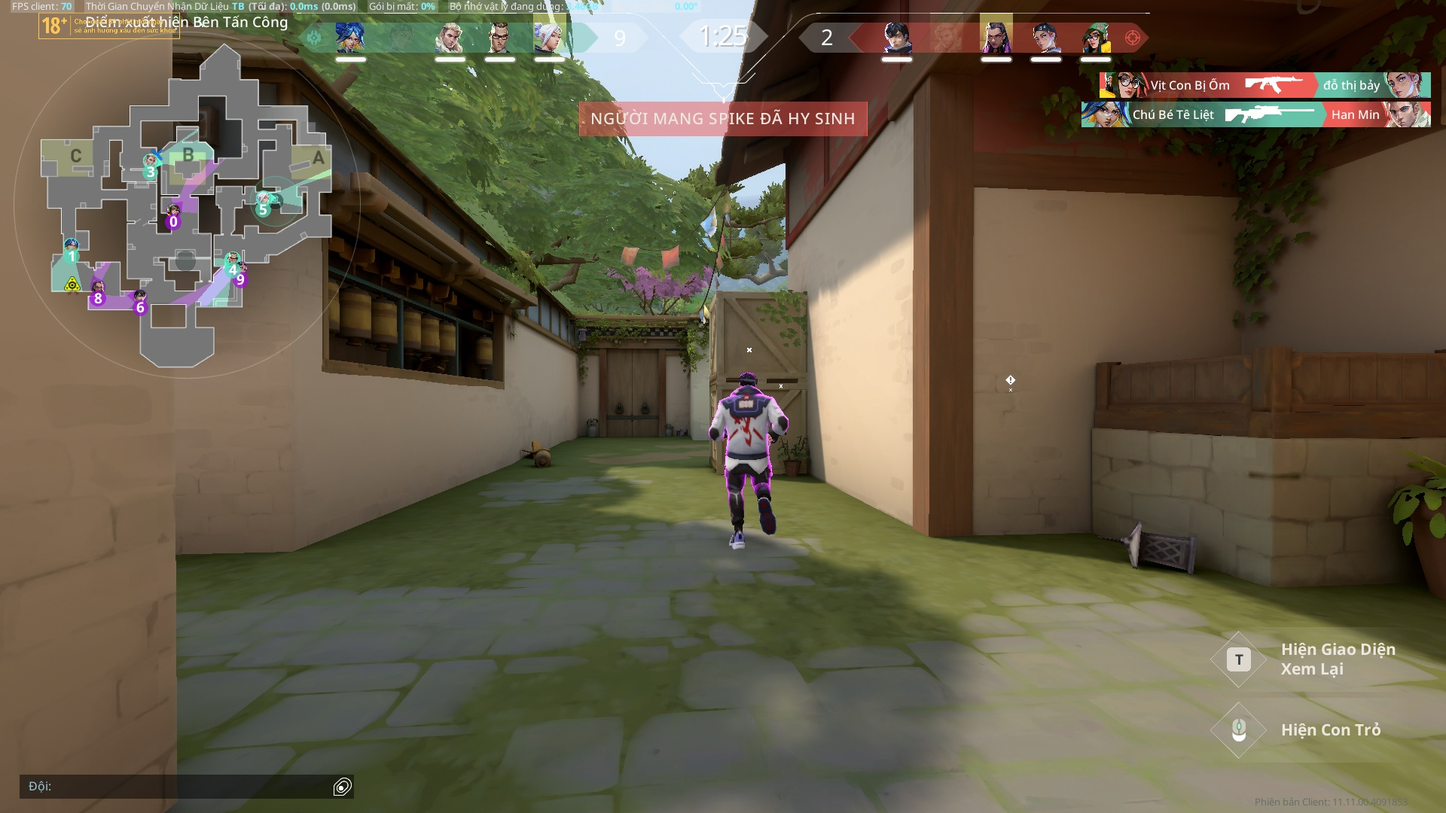body: (718, 387, 776, 453)
head: (737, 371, 757, 387)
